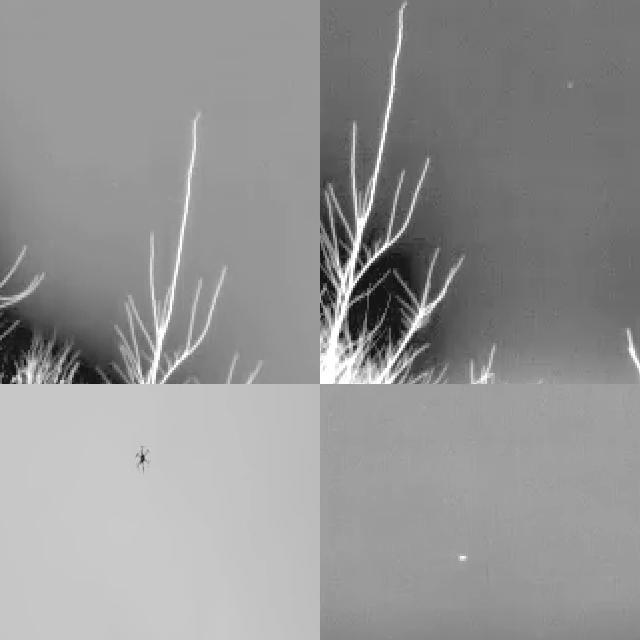0: (564, 76, 582, 100), (177, 195, 197, 215)
1: (453, 547, 479, 575)
drone: (130, 440, 153, 479)
